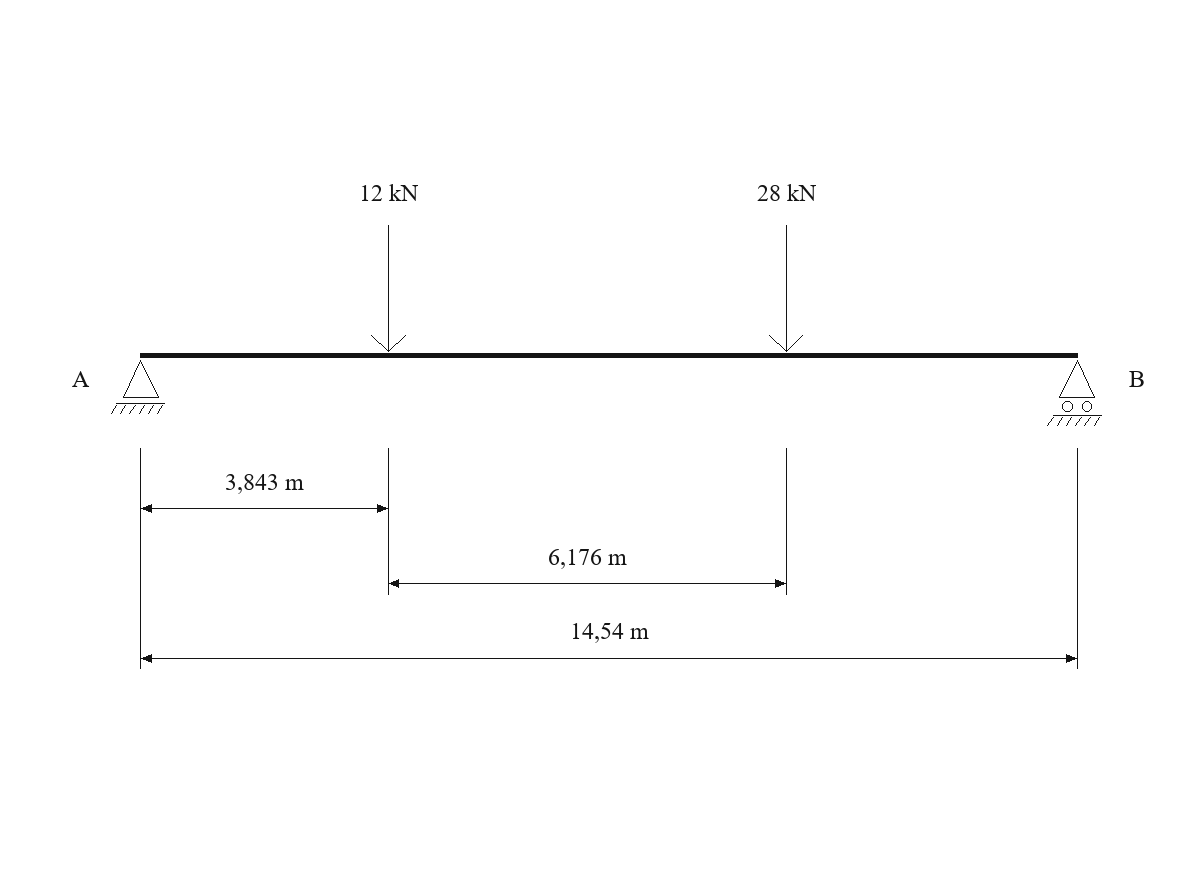pin_support: (111, 360, 165, 414)
point_load: (371, 225, 406, 352), (769, 225, 803, 352)
roller_support: (1047, 360, 1102, 426)
